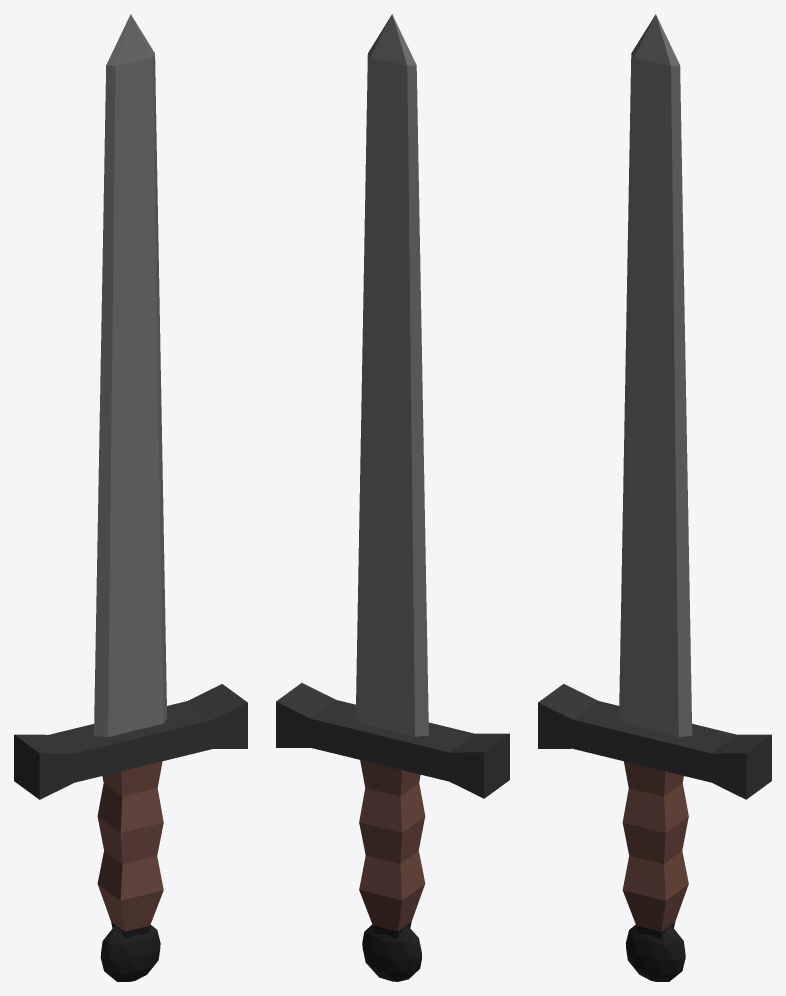
The model's file is Espada.fbx.
The picture shows the model from 3 angles, left to right: view 1: azimuth 30°, elevation 25°; view 2: azimuth 150°, elevation 25°; view 3: azimuth 330°, elevation 25°; orthographic projection.
Parts seen in each view (by area): view 1: Espada; view 2: Espada; view 3: Espada.
Boxes of the visible parts, x1,y1,x2,y2 form: Espada: (14,14,247,981); Espada: (276,14,509,981); Espada: (538,14,771,981).
Bounding box in the file's own units: 28.16 × 125 × 6.02.
